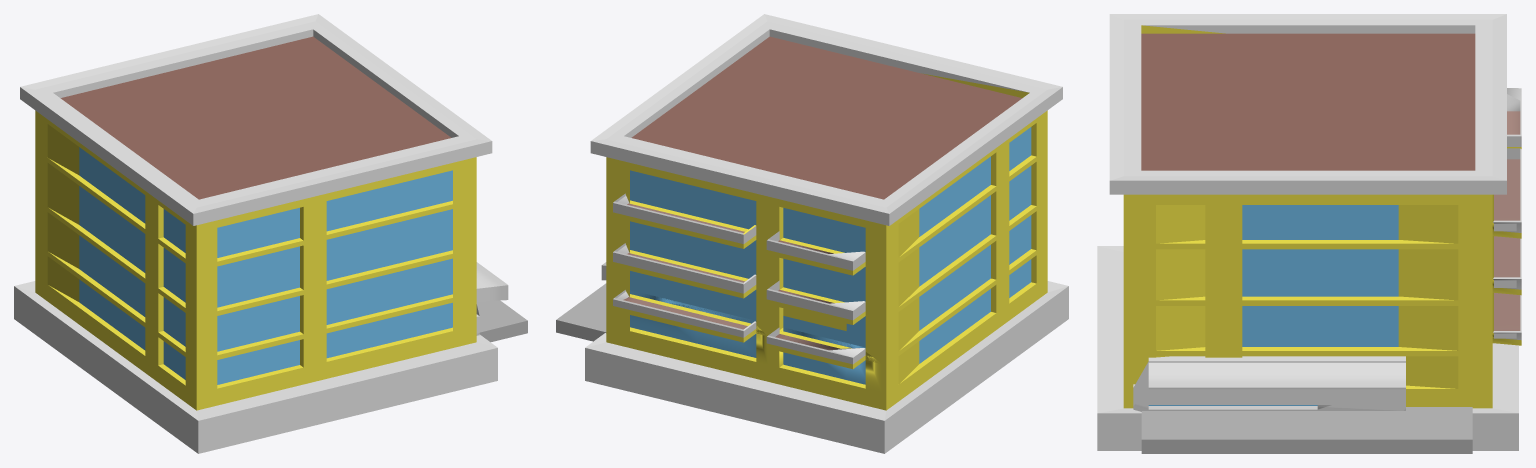
The model's file is YellowBuilding4x4x3.fbx.
The picture shows the model from 3 angles, left to right: view 1: azimuth 30°, elevation 25°; view 2: azimuth 150°, elevation 25°; view 3: azimuth 270°, elevation 25°; orthographic projection. The views are drawn at different scales.
Visible parts, largest first — view 1: House; view 2: House; view 3: House.
Boxes of the visible parts, x1=… form: House: x1=14, y1=14, x2=527, y2=453; House: x1=556, y1=14, x2=1068, y2=453; House: x1=1097, y1=14, x2=1521, y2=453.
Bounding box in the file's own units: 4.6 × 2.97 × 4.23.
Materials: 1 (1 with a texture image).
